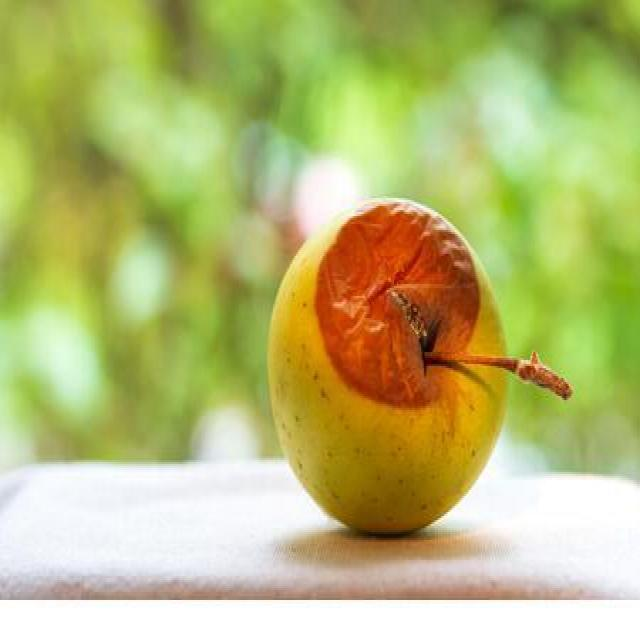Rotten: (255, 184, 520, 540)
